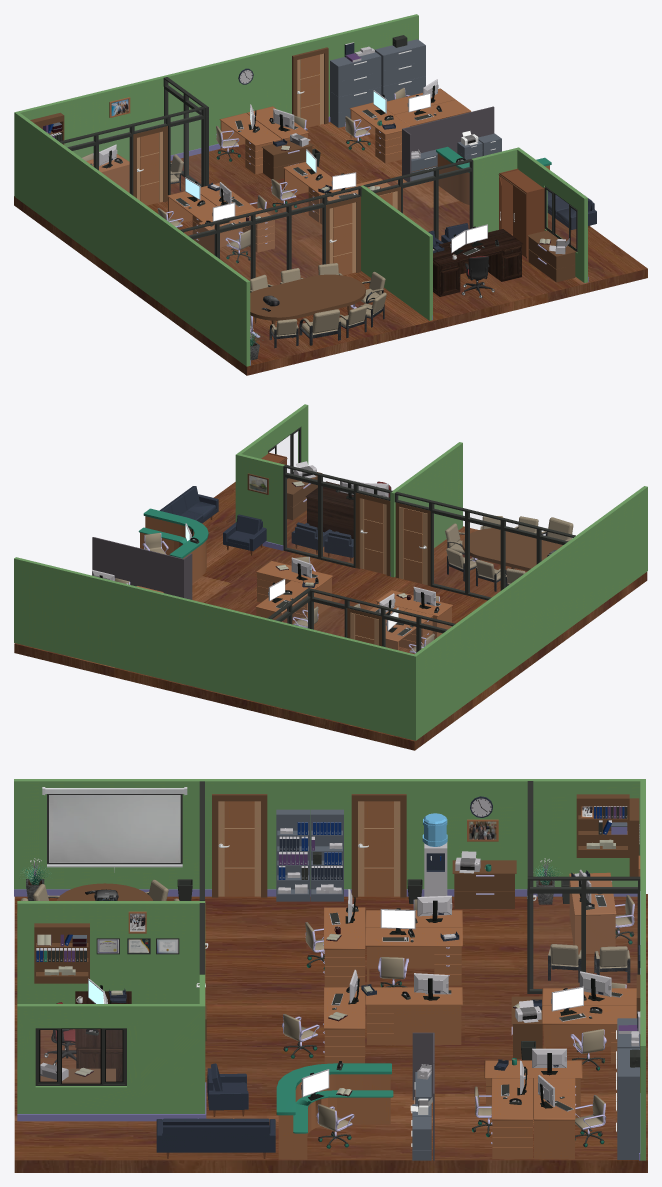
The model's file is isometric_office-transformed.glb.
The picture shows the model from 3 angles, top to bottom: view 1: azimuth 30°, elevation 25°; view 2: azimuth 150°, elevation 25°; view 3: azimuth 270°, elevation 25°; orthographic projection. The views are drawn at different scales.
Parts seen in each view (by area): view 1: Object_4, Object_8, Object_1140, Object_793, Object_432, Object_78, Object_932, Object_1071; view 2: Object_4, Object_8, Object_1140; view 3: Object_4, Object_8, Object_1043, Object_793, Object_1140, Object_432, Object_78, Object_932.
Boxes of the visible parts, box(x1,y1,x2,y2) form: Object_4: box(14, 14, 596, 366); Object_8: box(14, 122, 647, 375); Object_1140: box(433, 229, 523, 296); Object_793: box(171, 112, 575, 247); Object_432: box(185, 91, 487, 251); Object_78: box(93, 88, 546, 337); Object_932: box(170, 164, 384, 348); Object_1071: box(461, 256, 494, 298); Object_4: box(14, 404, 647, 740); Object_8: box(14, 482, 647, 750); Object_1140: box(305, 481, 389, 538); Object_4: box(14, 779, 645, 1160); Object_8: box(14, 894, 647, 1172); Object_1043: box(42, 787, 187, 894); Object_793: box(41, 1029, 121, 1082); Object_1140: box(75, 991, 131, 1081); Object_432: box(88, 910, 583, 1095); Object_78: box(282, 875, 634, 1143); Object_932: box(48, 893, 630, 982).
Bounding box in the file's own units: 10.1 × 2.25 × 10.12.
21 materials, 19 textured.
